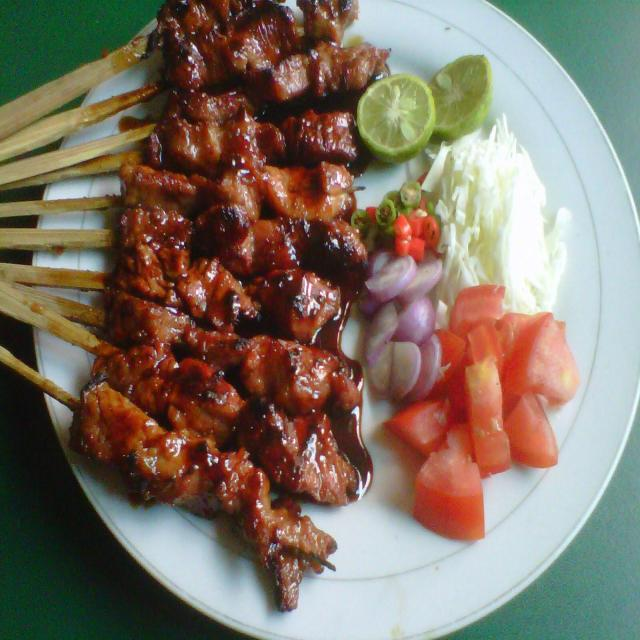Sate: (0, 21, 423, 499)
